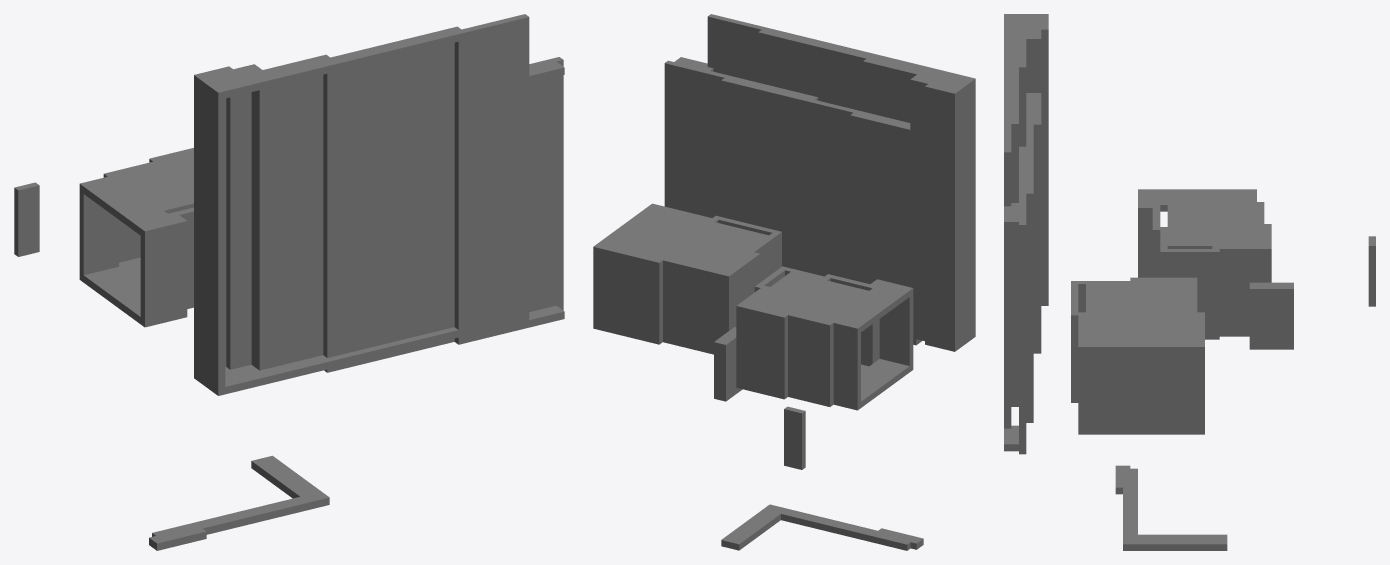
Rendered from tile_2_5.glb.
3 views of the same model, side by side, from view 1: azimuth 30°, elevation 25°; view 2: azimuth 150°, elevation 25°; view 3: azimuth 270°, elevation 25° (orthographic). The views are drawn at different scales.
Parts seen in each view (by area): view 1: universal_minecraft:stone_bricks:south, universal_minecraft:stone_bricks:west, universal_minecraft:terracotta:up, universal_minecraft:grass_block:up, universal_minecraft:concrete:south, universal_minecraft:stone_bricks:up, universal_minecraft:concrete:up, universal_minecraft:terracotta:south, universal_minecraft:grass_block:south, universal_minecraft:concrete:west; view 2: universal_minecraft:stone_bricks:north, universal_minecraft:terracotta:up, universal_minecraft:stone_bricks:west, universal_minecraft:stone_bricks:up, universal_minecraft:concrete:north, universal_minecraft:concrete:up, universal_minecraft:grass_block:up, universal_minecraft:concrete:west; view 3: universal_minecraft:stone_bricks:east, universal_minecraft:terracotta:up, universal_minecraft:stone_bricks:up, universal_minecraft:concrete:up, universal_minecraft:concrete:east.
Part boxes in pixels (bbox=[...]): universal_minecraft:stone_bricks:south: bbox=[83, 17, 563, 395]; universal_minecraft:stone_bricks:west: bbox=[79, 41, 458, 395]; universal_minecraft:terracotta:up: bbox=[84, 31, 564, 228]; universal_minecraft:grass_block:up: bbox=[84, 257, 564, 386]; universal_minecraft:concrete:south: bbox=[18, 185, 329, 550]; universal_minecraft:stone_bricks:up: bbox=[80, 14, 563, 231]; universal_minecraft:concrete:up: bbox=[14, 182, 329, 543]; universal_minecraft:terracotta:south: bbox=[164, 34, 564, 213]; universal_minecraft:grass_block:south: bbox=[225, 311, 564, 394]; universal_minecraft:concrete:west: bbox=[14, 188, 299, 550]; universal_minecraft:stone_bricks:north: bbox=[593, 16, 954, 410]; universal_minecraft:terracotta:up: bbox=[603, 28, 969, 325]; universal_minecraft:stone_bricks:west: bbox=[659, 79, 975, 409]; universal_minecraft:stone_bricks:up: bbox=[593, 14, 975, 344]; universal_minecraft:concrete:north: bbox=[721, 409, 916, 550]; universal_minecraft:concrete:up: bbox=[721, 406, 923, 544]; universal_minecraft:grass_block:up: bbox=[861, 359, 909, 401]; universal_minecraft:concrete:west: bbox=[739, 411, 923, 550]; universal_minecraft:stone_bricks:east: bbox=[1004, 29, 1293, 454]; universal_minecraft:terracotta:up: bbox=[1004, 17, 1264, 343]; universal_minecraft:stone_bricks:up: bbox=[1004, 14, 1293, 346]; universal_minecraft:concrete:up: bbox=[1115, 236, 1375, 544]; universal_minecraft:concrete:east: bbox=[1115, 246, 1375, 550].
Bounding box in the file's own units: 50 × 68 × 50.
22 materials, 22 textured.
